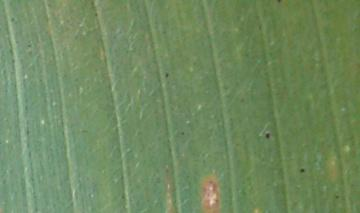tarspot: (162, 71, 170, 80), (8, 15, 16, 24), (298, 165, 306, 174), (333, 193, 341, 201), (264, 132, 271, 141), (179, 130, 186, 137), (25, 42, 33, 48), (93, 11, 99, 18), (275, 1, 284, 3)
